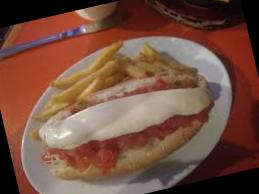Completos: (24, 64, 230, 192)
